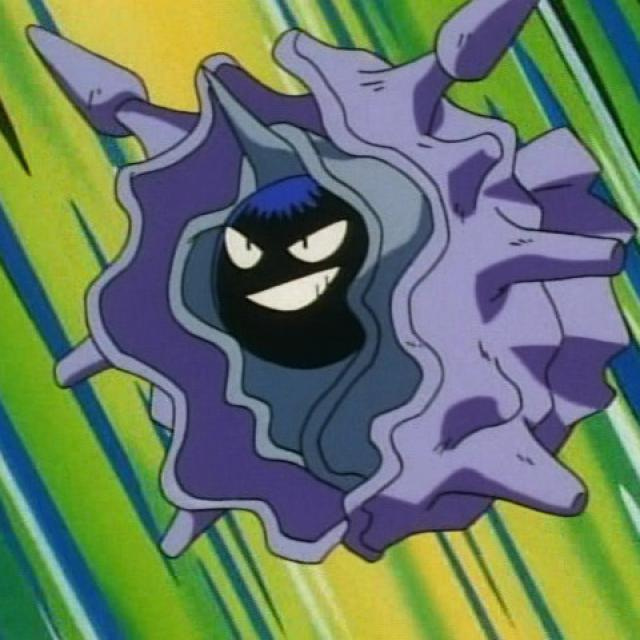Cloyster: (67, 14, 585, 542)
